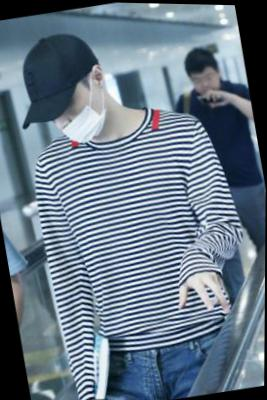NONE: (190, 69, 219, 99)
WRONG: (46, 82, 106, 148)
